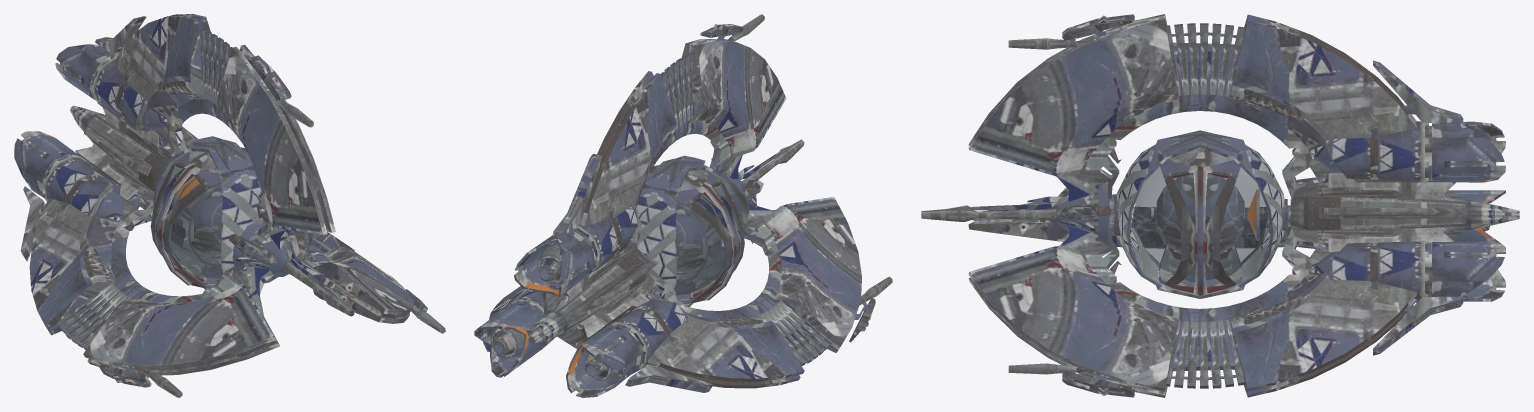
The model's file is trifighter.lod1.glb.
3 views of the same model, side by side, from view 1: azimuth 30°, elevation 25°; view 2: azimuth 150°, elevation 25°; view 3: azimuth 270°, elevation 25° (orthographic). The views are drawn at different scales.
Size of the model in its own units: 3.44 by 2.98 by 5.33.
Materials: 2 (1 with a texture image).
